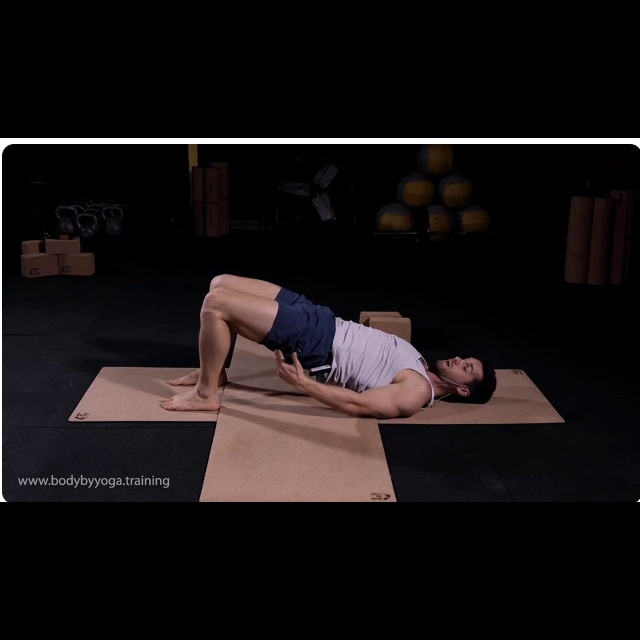Bridge_Pose: (156, 261, 500, 430)
